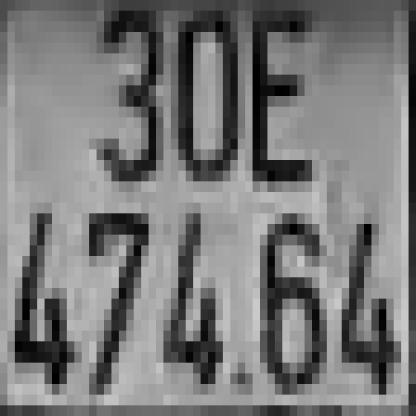0: (171, 11, 230, 192)
3: (96, 11, 164, 181)
4: (15, 203, 82, 384), (334, 213, 394, 384), (164, 203, 216, 373)
6: (252, 203, 320, 384)
7: (89, 203, 149, 384)
E: (245, 11, 312, 192)
